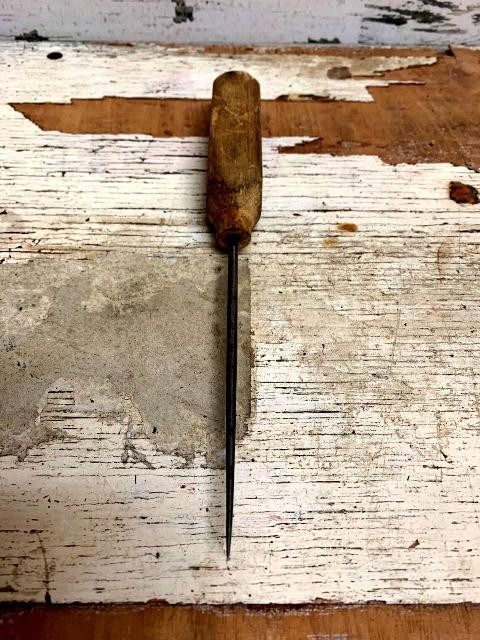ice pick: (206, 70, 260, 560)
